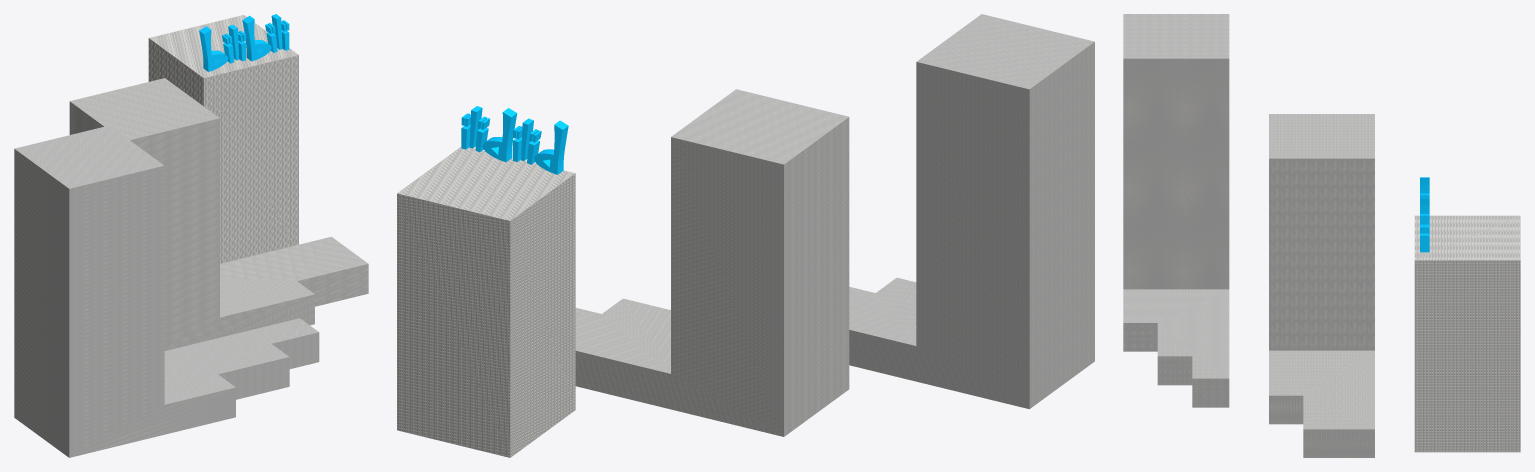
File: CAPITALLAND.gltf
The picture shows the model from 3 angles, left to right: view 1: azimuth 30°, elevation 25°; view 2: azimuth 150°, elevation 25°; view 3: azimuth 270°, elevation 25°; orthographic projection. The views are drawn at different scales.
Parts seen in each view (by area): view 1: Cd1, Cd2, Cd3, B; view 2: Cd1, Cd2, Cd3, B; view 3: Cd1, Cd2, Cd3, B.
Boxes of the visible parts, bbox=[...] form: Cd1: bbox=[14, 125, 319, 457]; Cd2: bbox=[69, 78, 368, 350]; Cd3: bbox=[148, 15, 298, 263]; B: bbox=[199, 14, 289, 71]; Cd1: bbox=[849, 14, 1094, 409]; Cd2: bbox=[575, 89, 849, 436]; Cd3: bbox=[397, 147, 575, 457]; B: bbox=[461, 106, 568, 174]; Cd1: bbox=[1123, 14, 1229, 407]; Cd2: bbox=[1269, 114, 1374, 457]; Cd3: bbox=[1414, 215, 1520, 452]; B: bbox=[1420, 177, 1429, 252].
Bounding box in the file's own units: 165 × 108 × 150.
